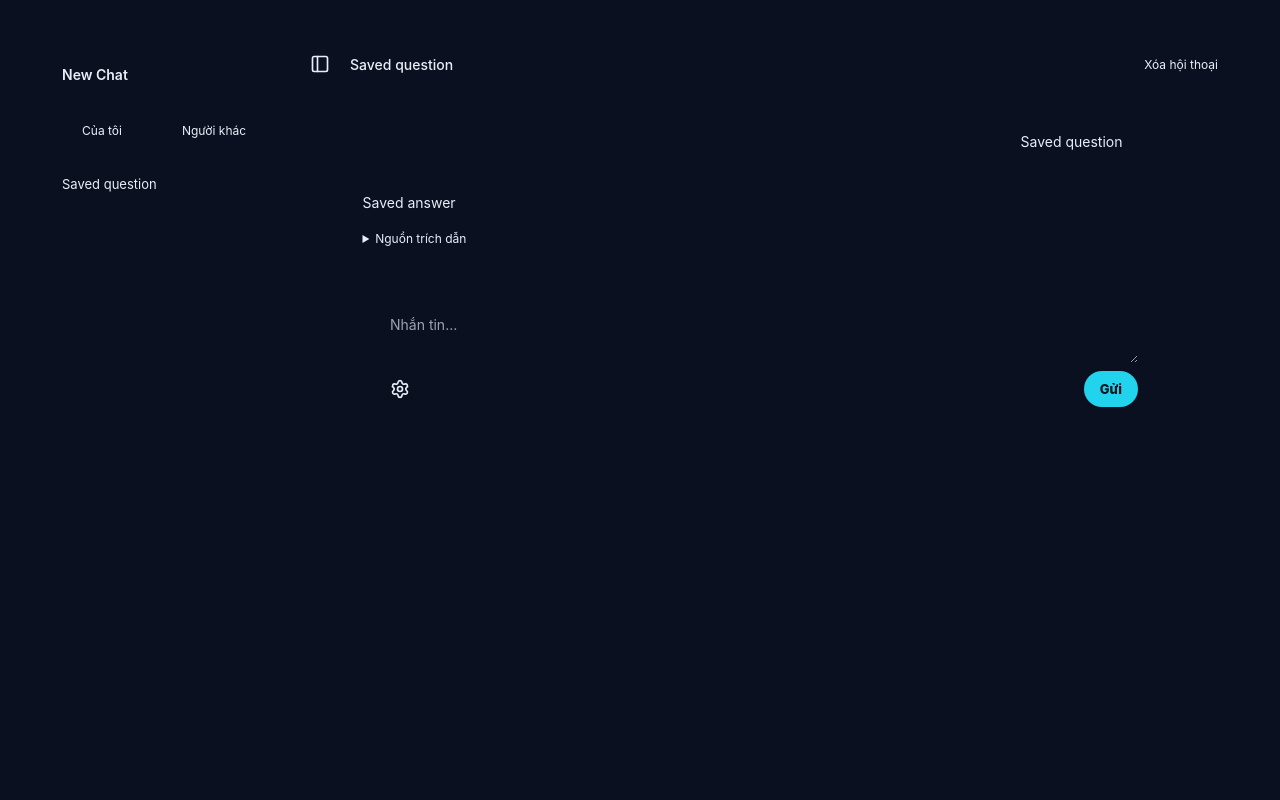
uses an icon-only gear and a dismissible config drawer without the old title
Expected: the text "Saved answer" is shown, [362,194,456,211]
Step 1. Click the button named "Cấu hình" → (400, 389), box [382,371,418,407]
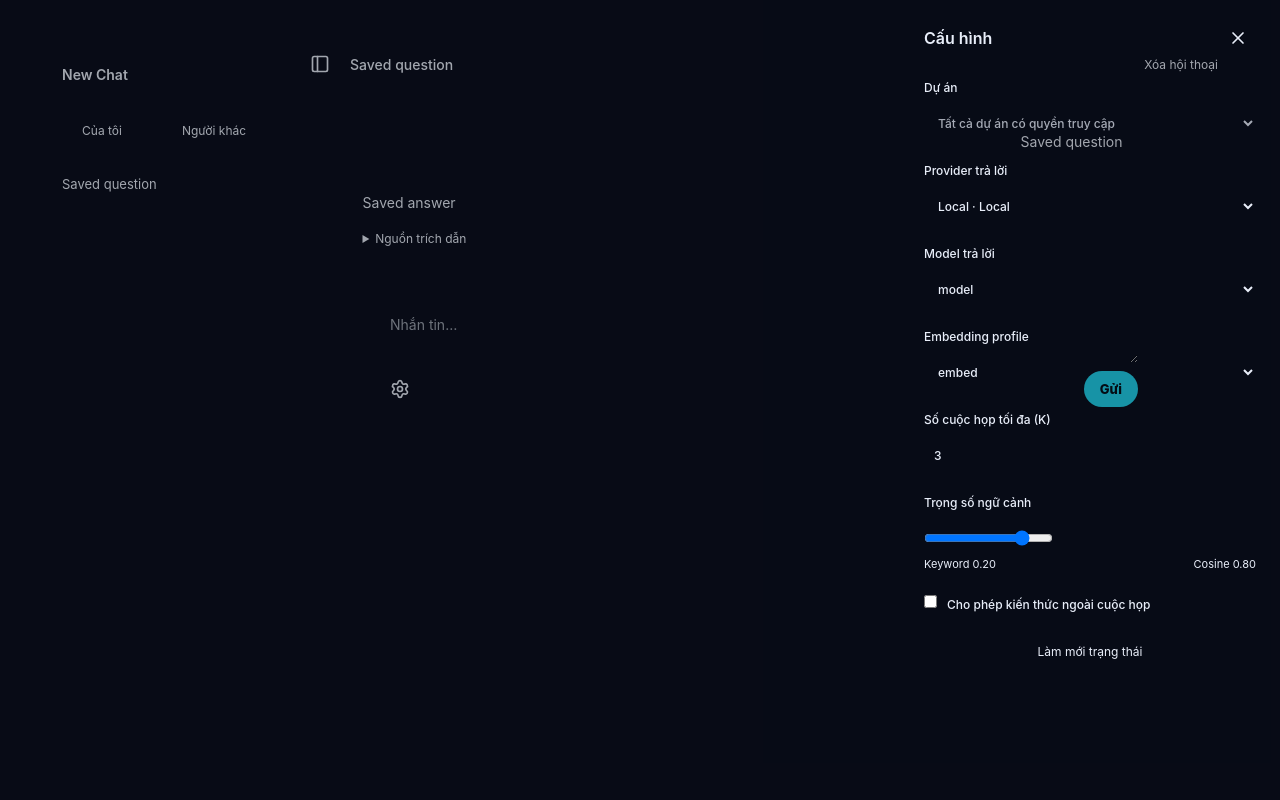
Expected: the dialog "Cấu hình" is shown, [900,0,1279,799]
Step 2. Click the button named "Đóng cấu hình" → (1238, 38), box [1220,20,1256,56]
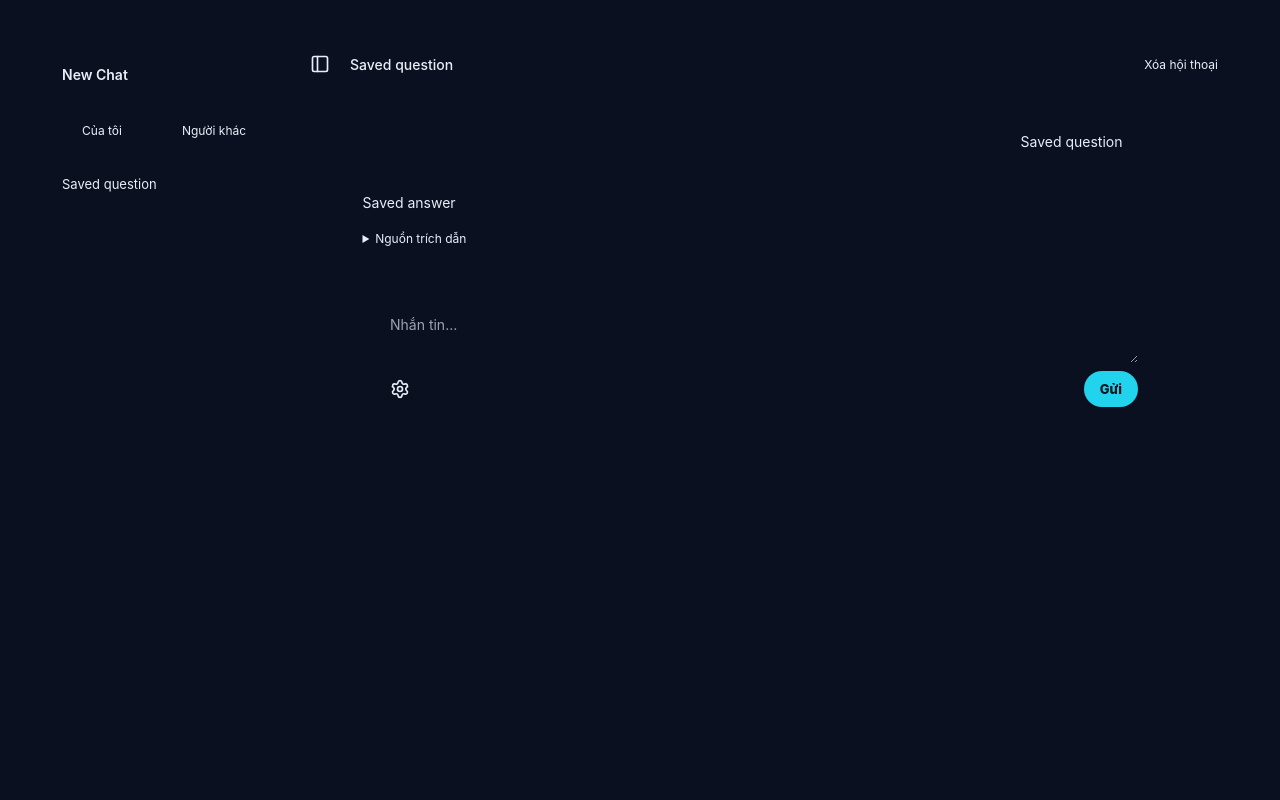
Expected: the dialog is gone
